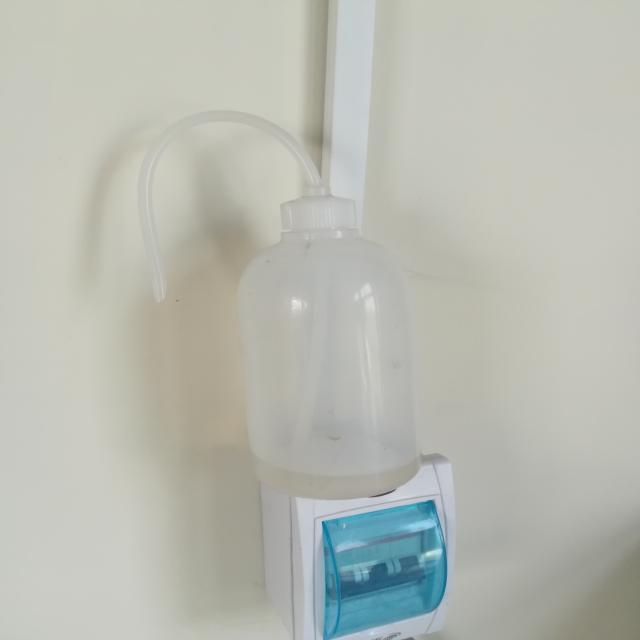Wash_Bottle: (93, 74, 478, 536)
